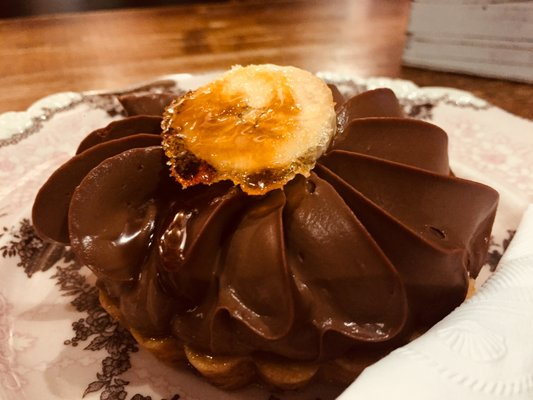curry: (0, 1, 530, 400)
salad: (159, 63, 338, 197)
